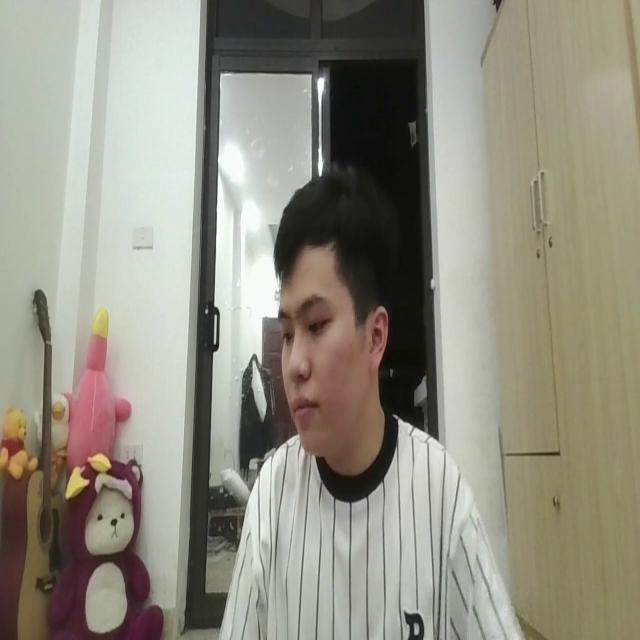student: (222, 153, 526, 640)
